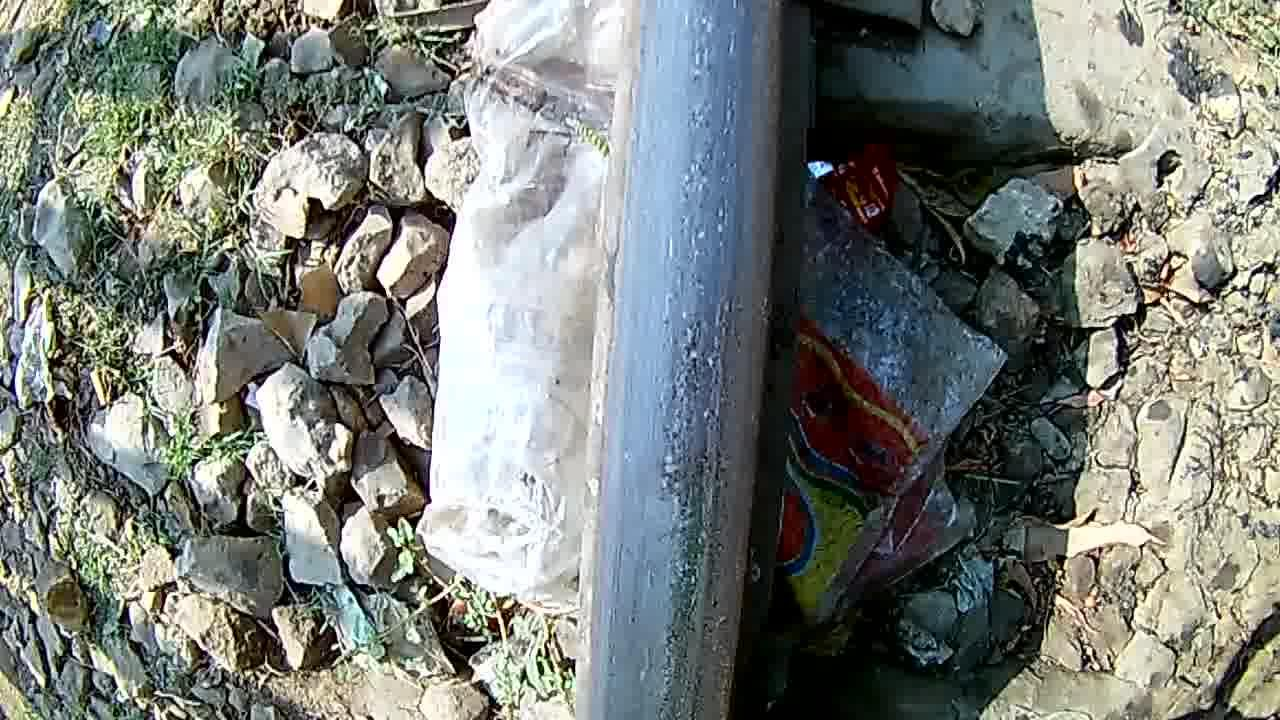clip_missing: (616, 3, 768, 718)
